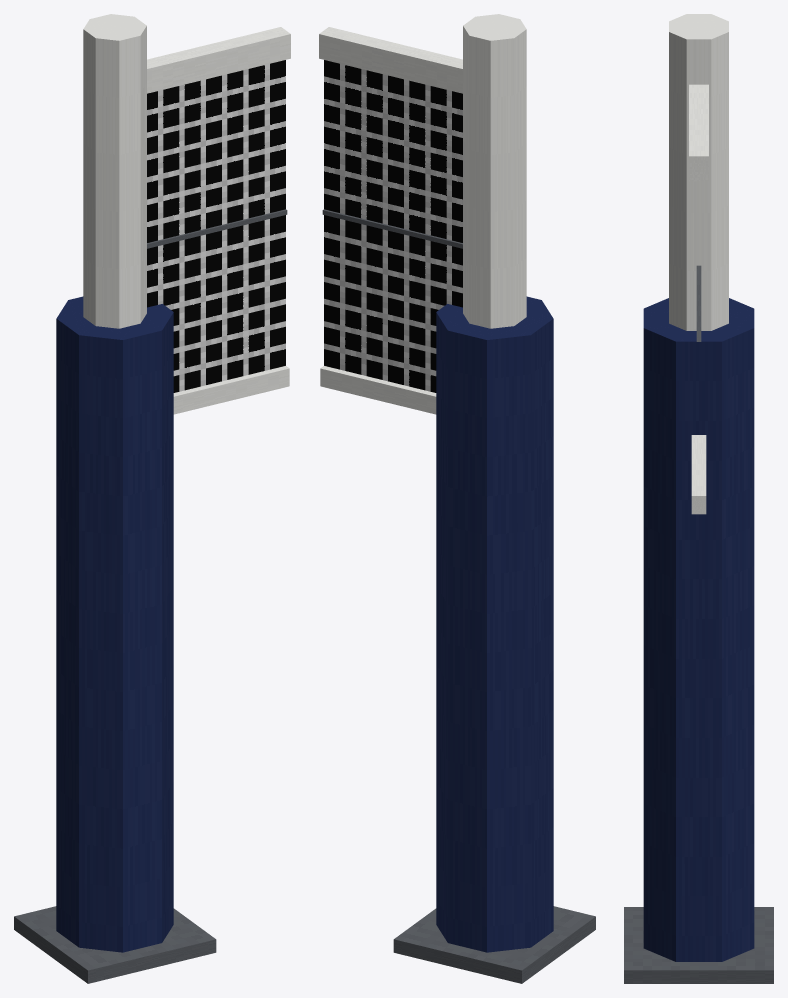
Rendered from vb_m_end_l.obj.
The picture shows the model from 3 angles, left to right: view 1: azimuth 30°, elevation 25°; view 2: azimuth 150°, elevation 25°; view 3: azimuth 270°, elevation 25°; orthographic projection.
Parts seen in each view (by area): view 1: vb_m_end_l; view 2: vb_m_end_l; view 3: vb_m_end_l.
Boxes of the visible parts, left/top/right/bottom form: vb_m_end_l: left=14, top=14, right=290, bottom=983; vb_m_end_l: left=319, top=14, right=595, bottom=983; vb_m_end_l: left=624, top=14, right=773, bottom=983.
Bounding box in the file's own units: 0.6875 × 2.56 × 0.375.
